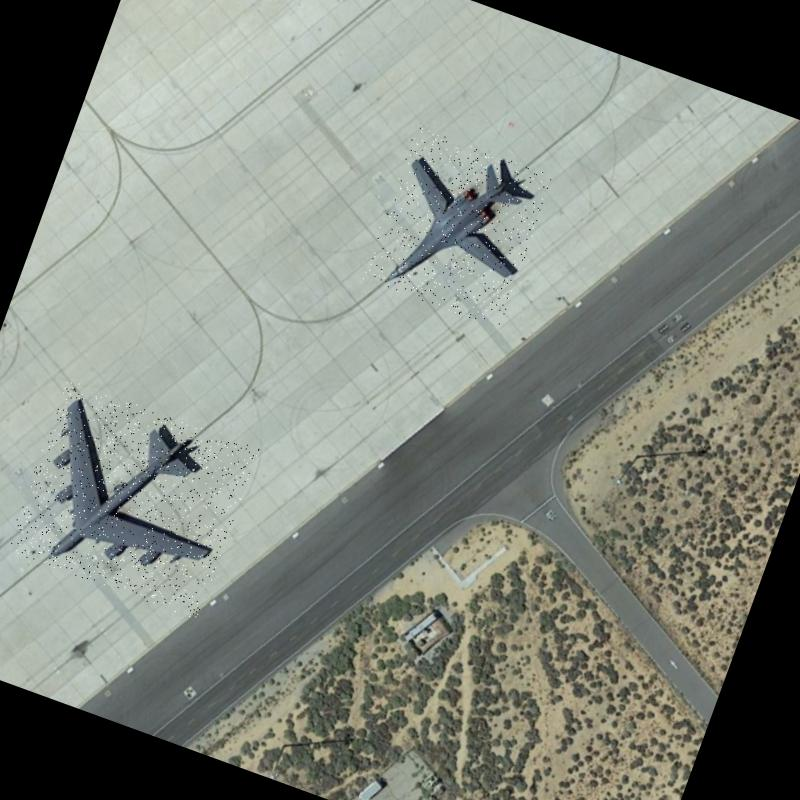A10: (360, 126, 554, 328)
A8: (5, 379, 259, 620)
